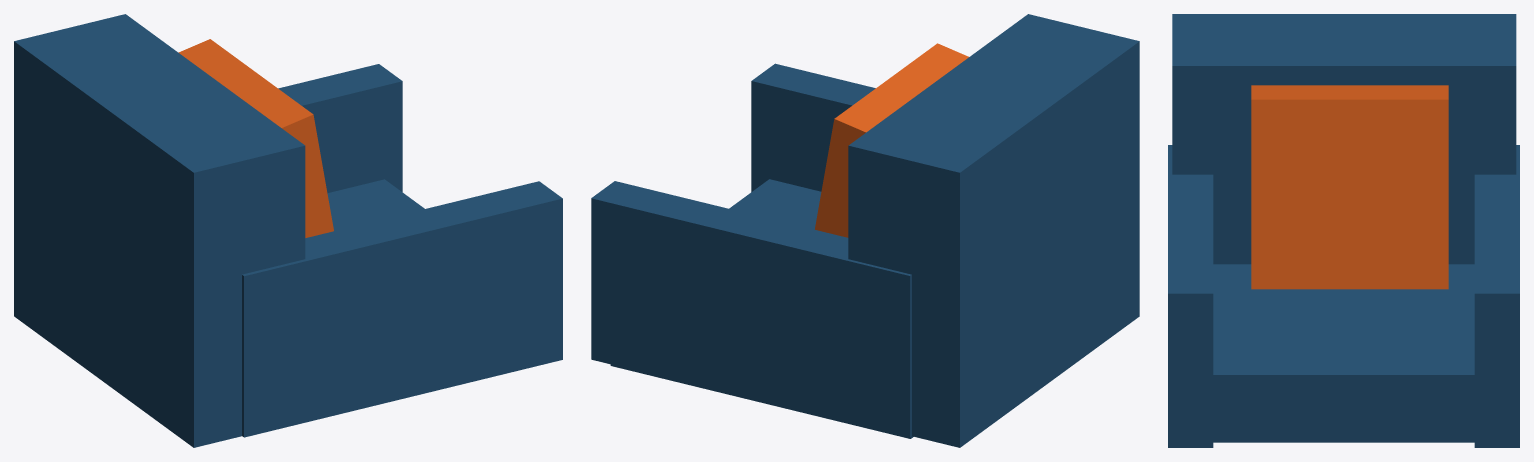
The model's file is sillonpequeno.fbx.
The picture shows the model from 3 angles, left to right: view 1: azimuth 30°, elevation 25°; view 2: azimuth 150°, elevation 25°; view 3: azimuth 270°, elevation 25°; orthographic projection. The views are drawn at different scales.
Visible parts, largest first — view 1: Cube.002, Cube.003, Cube.001, Cube.004, Cube; view 2: Cube.002, Cube.001, Cube.003, Cube.004, Cube; view 3: Cube.002, Cube, Cube.004, Cube.003, Cube.001.
Boxes of the visible parts, box(x1,y1,x2,y2) form: Cube.002: box(14, 14, 305, 447); Cube.003: box(242, 181, 562, 437); Cube.001: box(278, 64, 402, 193); Cube.004: box(178, 39, 333, 237); Cube: box(327, 179, 424, 230); Cube.002: box(848, 14, 1139, 447); Cube.001: box(591, 181, 911, 437); Cube.003: box(751, 63, 875, 191); Cube.004: box(815, 43, 968, 237); Cube: box(610, 179, 913, 438); Cube.002: box(1172, 14, 1516, 264); Cube: box(1213, 264, 1474, 442); Cube.004: box(1251, 85, 1448, 289); Cube.003: box(1168, 145, 1213, 447); Cube.001: box(1474, 145, 1519, 447).
Size of the model in its own units: 279 by 202 by 242.
